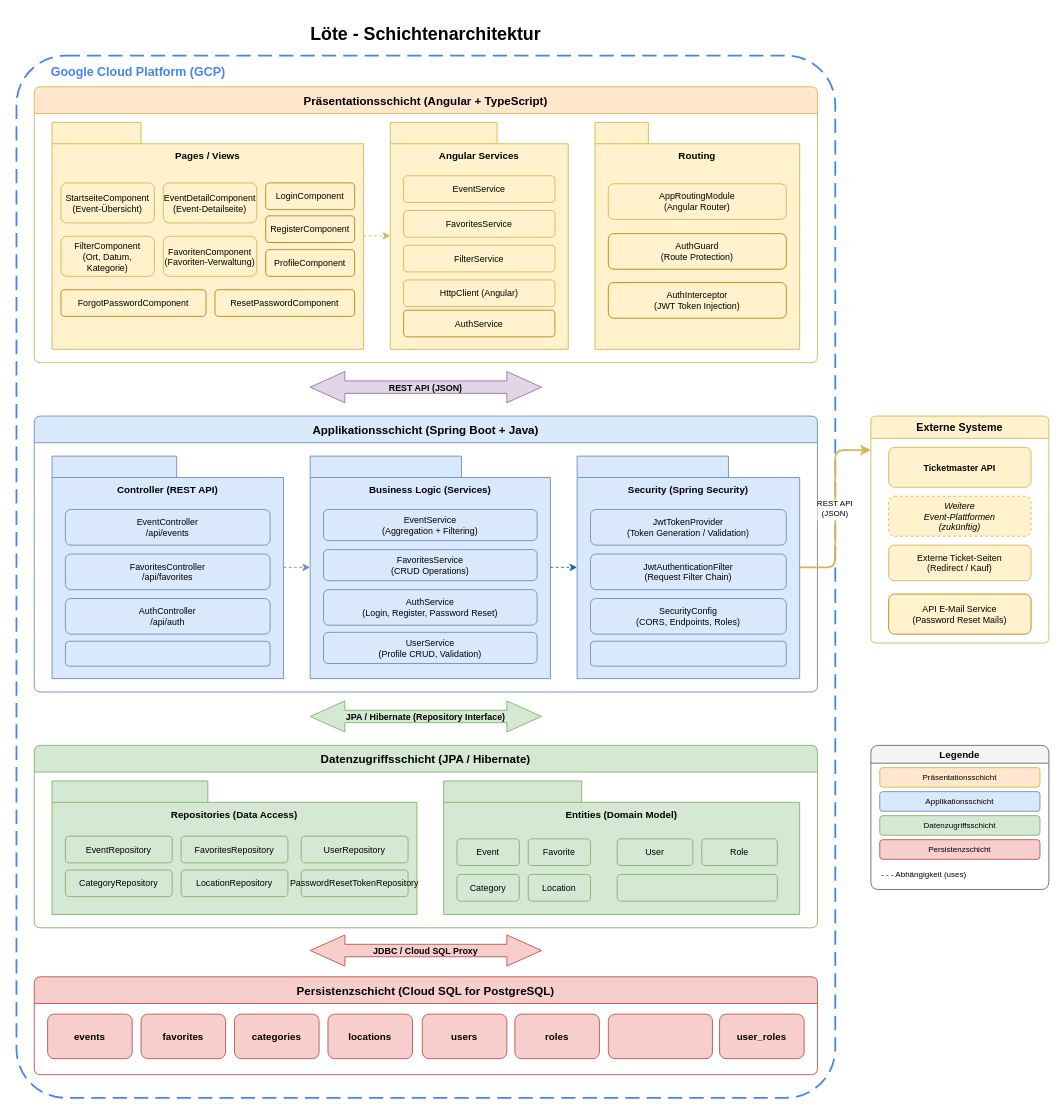
Some shapes in this 1064 by 1113 pixel diagram are drawn without their labels. Here are the shapes that lost their labels. From the top down, the centre of each, then its label:
point 167,653: UserController /api/users
point 688,653: PasswordEncoder (BCrypt Hashing)
point 696,887: PasswordResetToken
point 659,1036: password_reset_tokens
